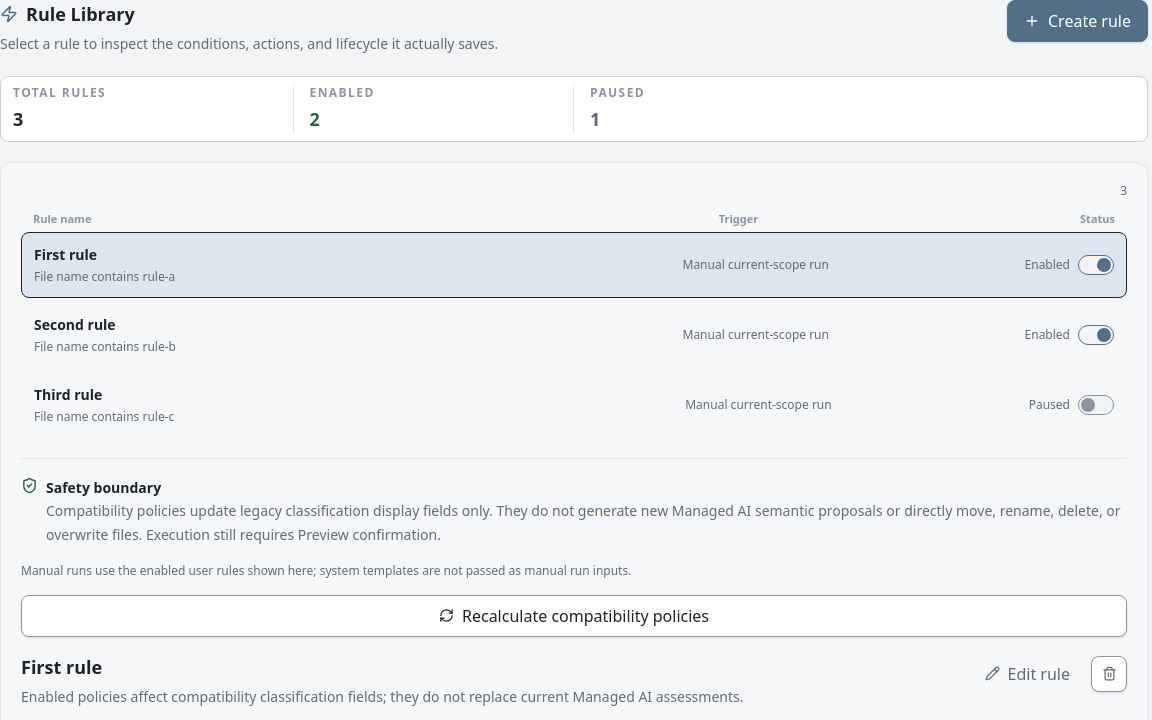
Test: automation rule workspace behavior › marks a completed result stale after a scope change
Click the button "Recalculate compatibility policies": (574, 616) x1=21 y1=594 x2=1127 y2=636
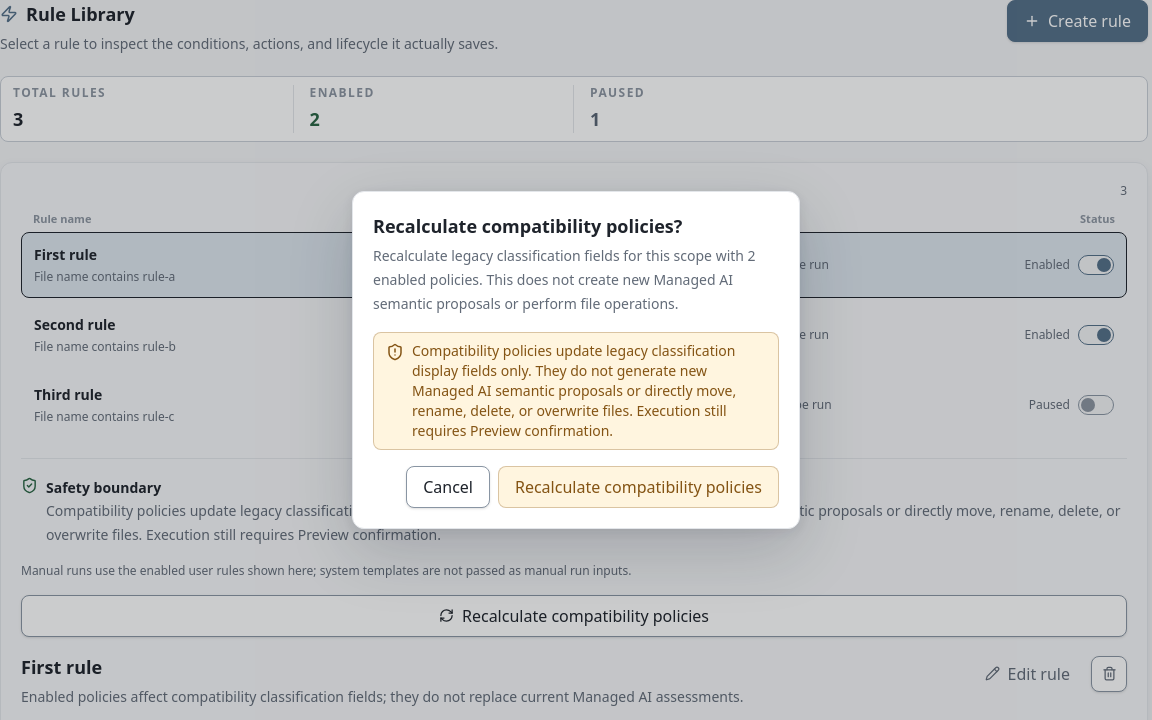
Click the button "Recalculate compatibility policies": (638, 487) x1=498 y1=466 x2=779 y2=508
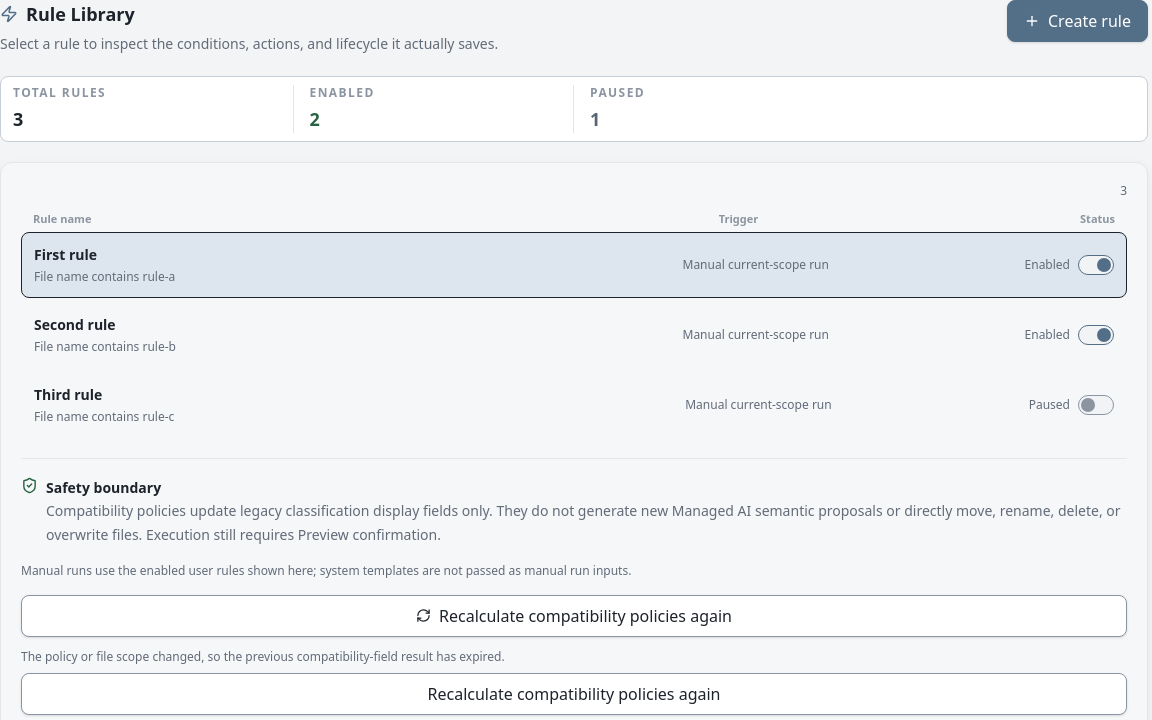
Result: the message shows "previous compatibility-field result has expired" at x1=21 y1=648 x2=505 y2=664
